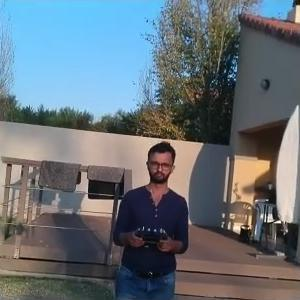follow: (108, 133, 194, 298)
